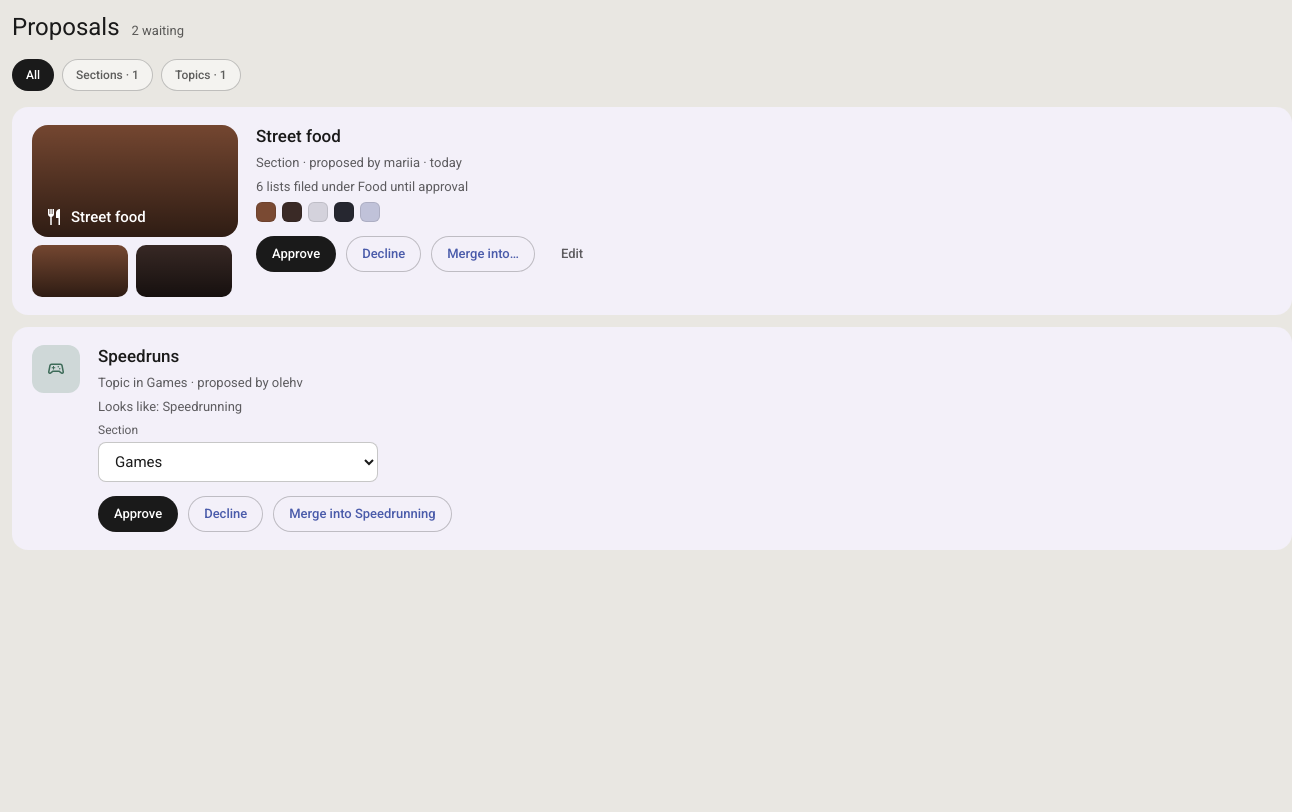
ProposalsPane › says a decision that did not go through on the card itself
The image size is (1292, 812).
Click the button "Approve" below "6 lists filed under Food until approval".
click(296, 254)  # box [256, 236, 336, 272]
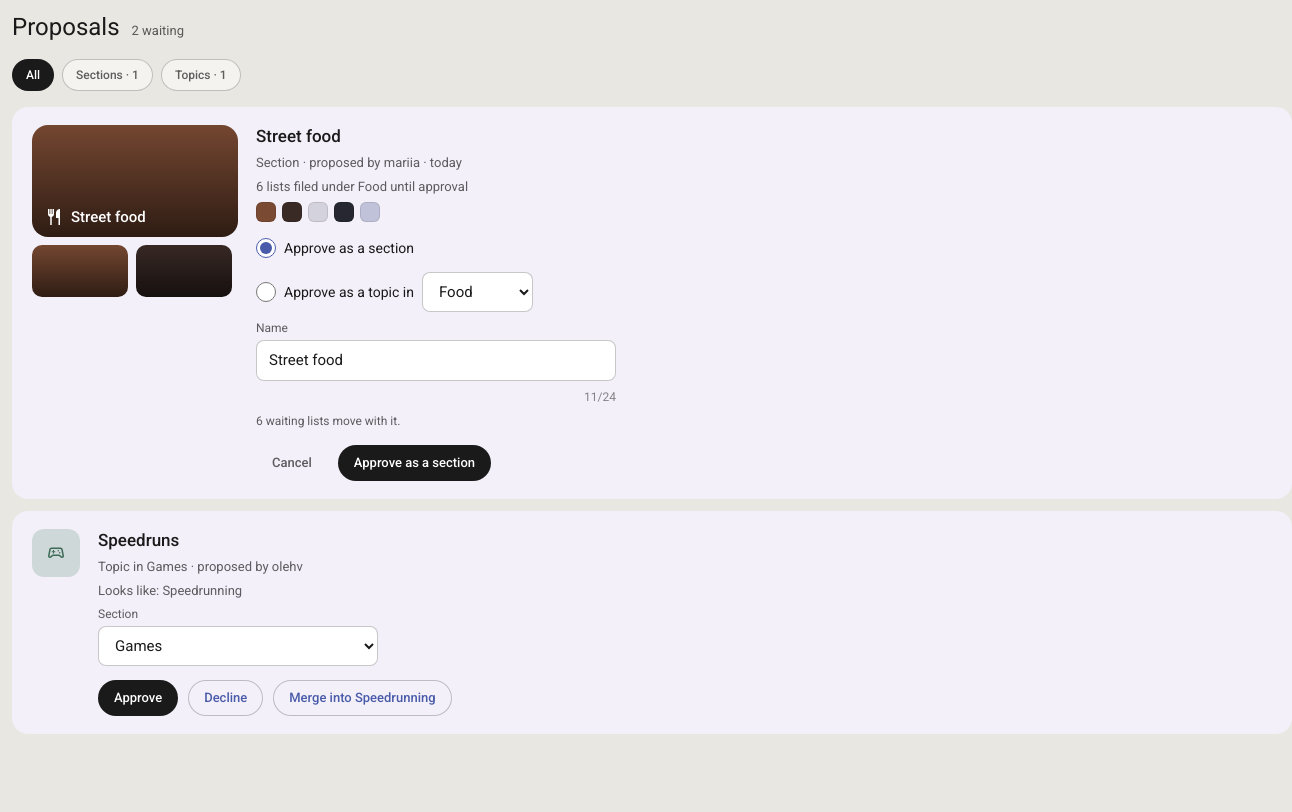
Click the button "Approve as a section".
click(414, 462)  # box [338, 444, 491, 480]
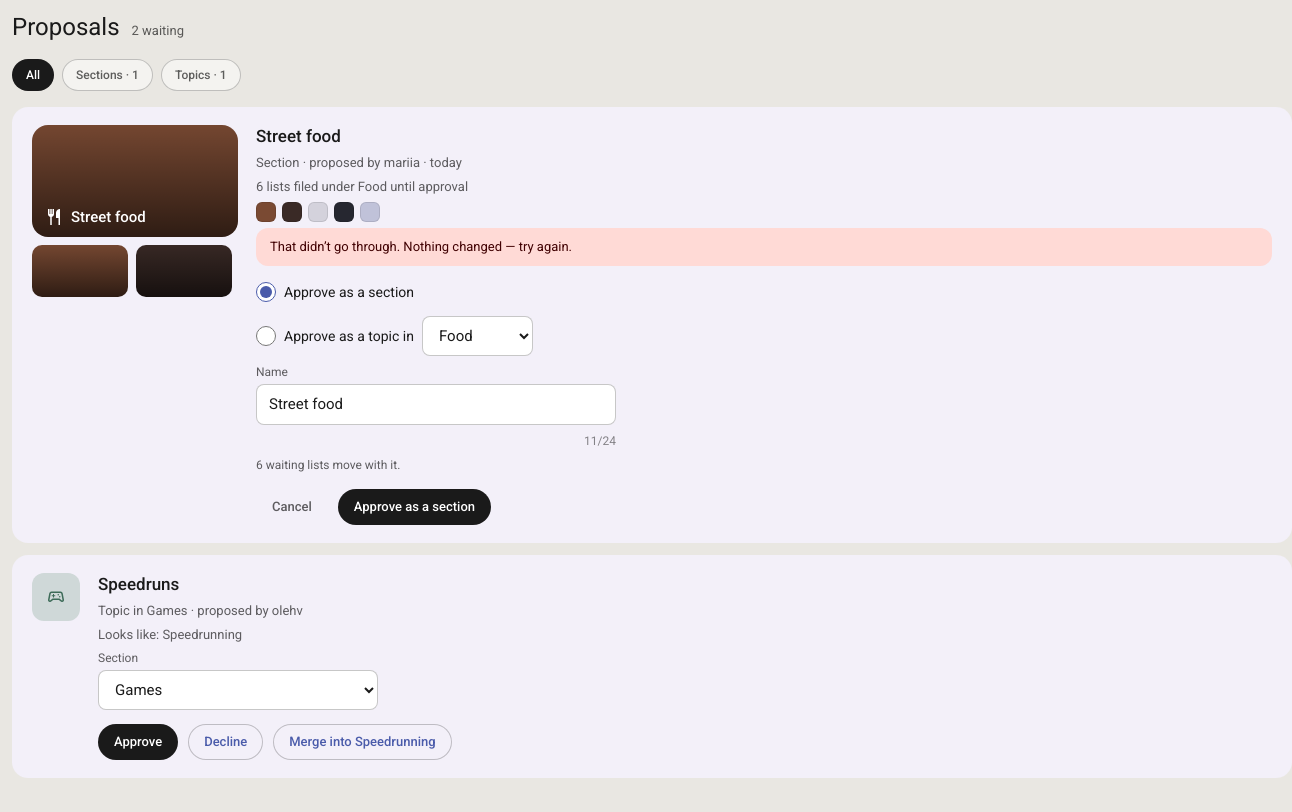
Check: the message shows "That didn’t go through.", box [270, 239, 572, 254]
